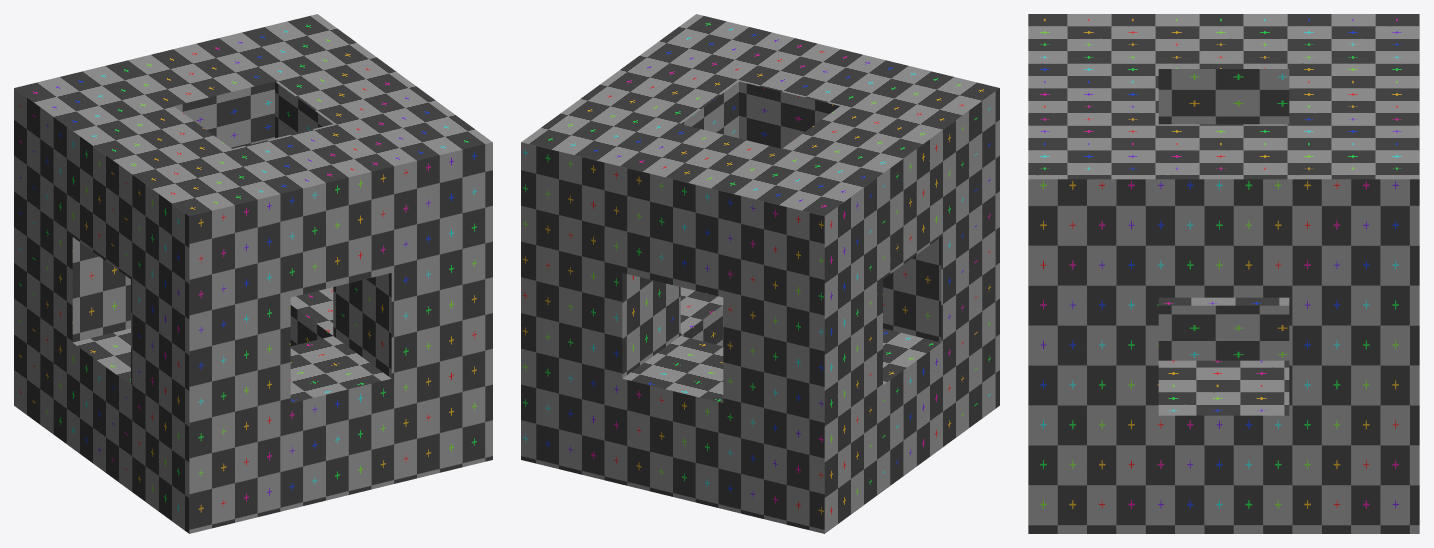
Rendered from sponge_uv.gltf.
3 views of the same model, side by side, from view 1: azimuth 30°, elevation 25°; view 2: azimuth 150°, elevation 25°; view 3: azimuth 270°, elevation 25° (orthographic). The views are drawn at different scales.
Visible parts, largest first — view 1: Sponge; view 2: Sponge; view 3: Sponge.
Part boxes in pixels (box(x1,y1,x2,y2)): Sponge: box(14, 14, 492, 533); Sponge: box(521, 14, 999, 533); Sponge: box(1028, 14, 1419, 533).
Bounding box in the file's own units: 2 × 2 × 2.
1 material, 1 textured.
